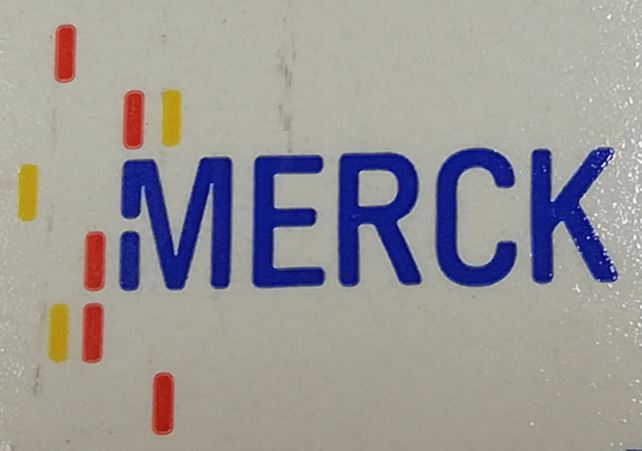Merck: (13, 24, 623, 441)
